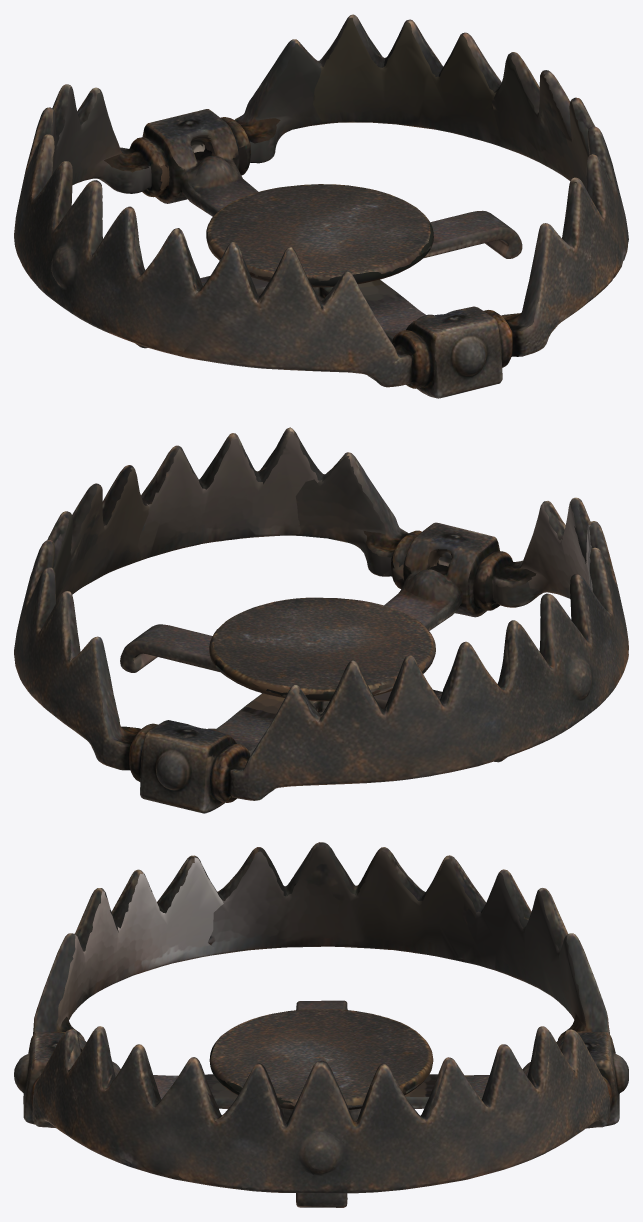
The model's file is trap.glb.
The picture shows the model from 3 angles, top to bottom: view 1: azimuth 30°, elevation 25°; view 2: azimuth 150°, elevation 25°; view 3: azimuth 270°, elevation 25°; orthographic projection.
Parts seen in each view (by area): view 1: trap_object_0; view 2: trap_object_0; view 3: trap_object_0.
Boxes of the visible parts, x1=… form: trap_object_0: x1=14, y1=14, x2=628, y2=398; trap_object_0: x1=14, y1=427, x2=628, y2=813; trap_object_0: x1=14, y1=842, x2=628, y2=1207.
Size of the model in its own units: 0.9887 by 0.3007 by 1.
1 material, 1 textured.
